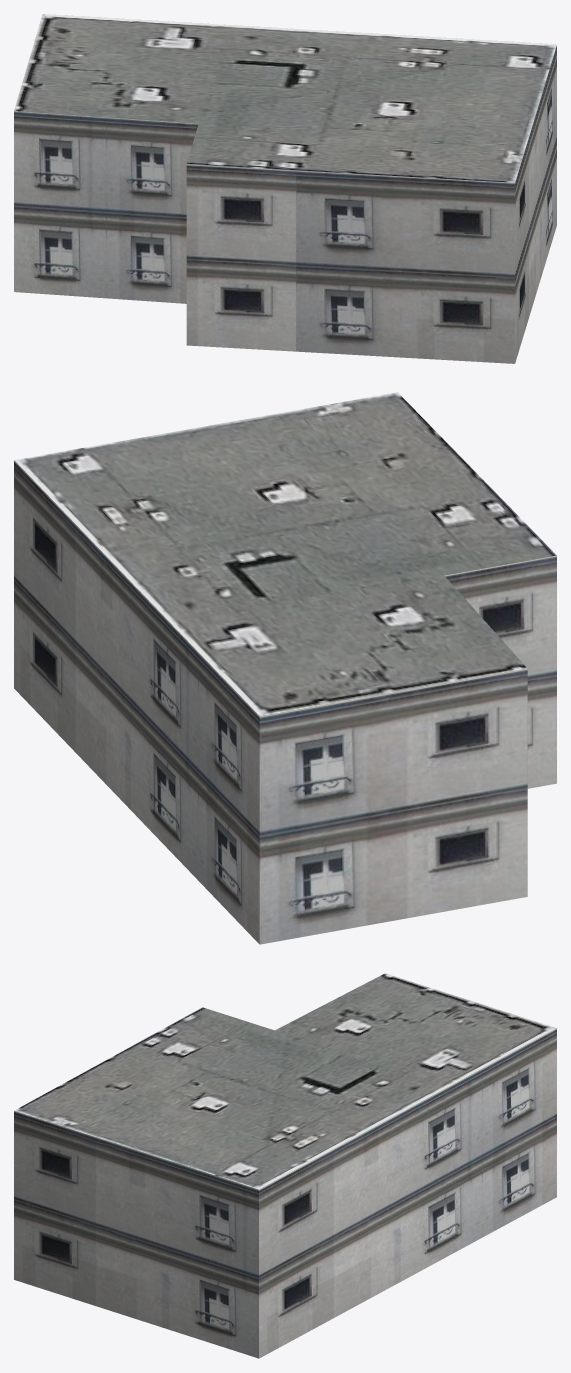
File: RelTex__6.fbx
3 views of the same model, one above another, from view 1: azimuth 30°, elevation 25°; view 2: azimuth 150°, elevation 25°; view 3: azimuth 270°, elevation 25° (orthographic). The views are drawn at different scales.
Visible parts, largest first — view 1: CityEngineMaterial_12_m, CityEngineMaterial_11_m; view 2: CityEngineMaterial_12_m, CityEngineMaterial_11_m; view 3: CityEngineMaterial_12_m, CityEngineMaterial_11_m.
Part boxes in pixels (x1,y1,x2,y2): CityEngineMaterial_12_m: (14,45,556,363); CityEngineMaterial_11_m: (14,14,556,182); CityEngineMaterial_12_m: (14,460,556,944); CityEngineMaterial_11_m: (14,392,556,716); CityEngineMaterial_12_m: (14,1028,556,1358); CityEngineMaterial_11_m: (14,973,556,1189).
Size of the model in its own units: 16.47 by 6 by 17.47.
Materials: 2 (2 with a texture image).
